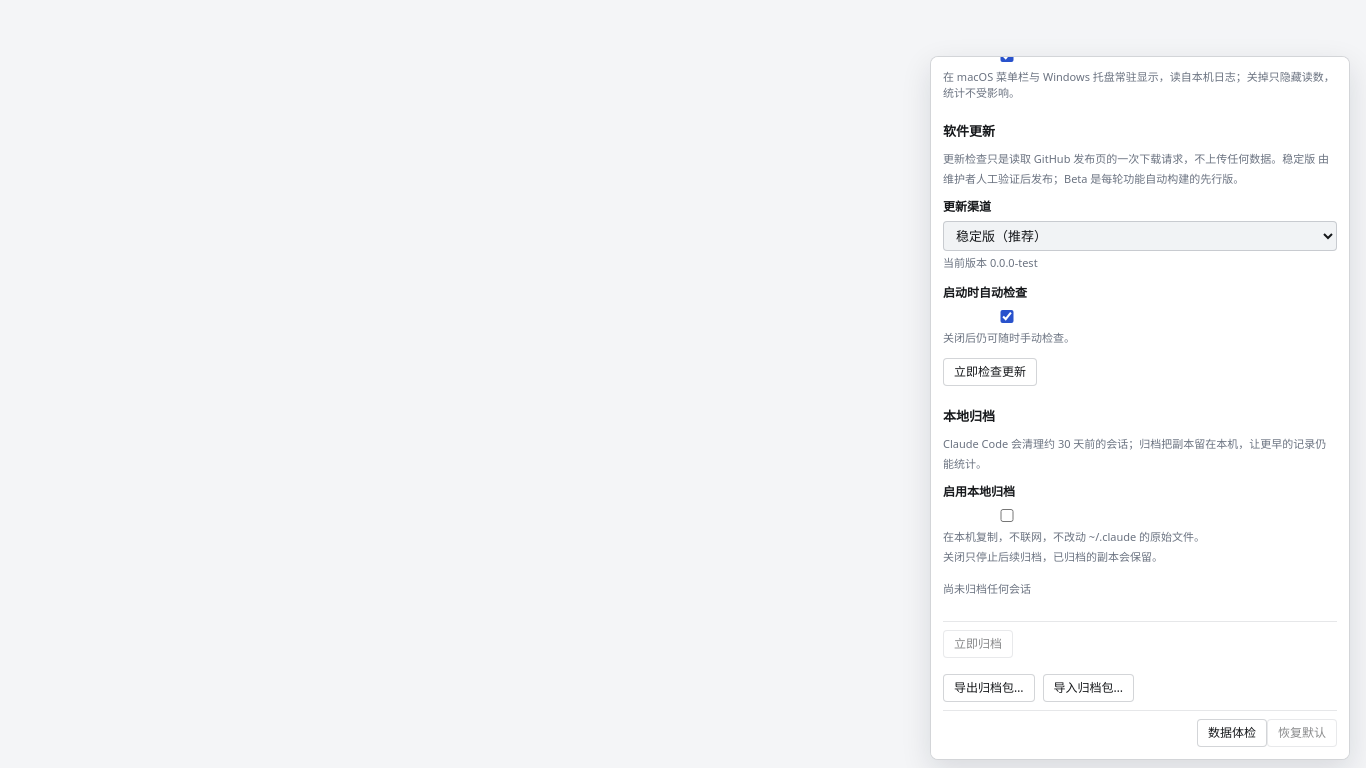
归档包（Issue #152） › 口令错：就地报错、索引未被写、临时目录仍被清掉
This screenshot has width=1366, height=768.
(page scrolled)
Click the button "导入归档包…" at (1088, 688), box [1042,674,1134,702]
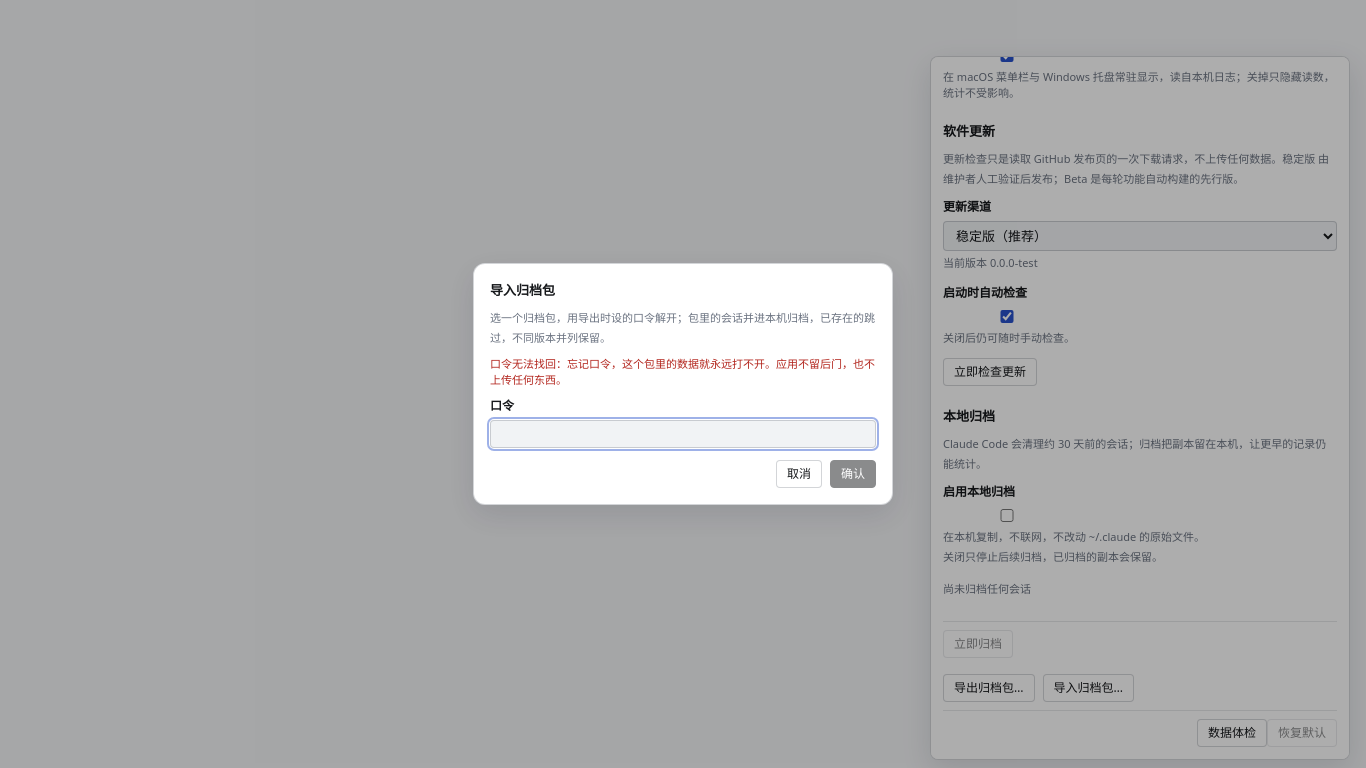
Type "wrong" into the password field labelled "口令" at (683, 434), box [490,420,876,448]
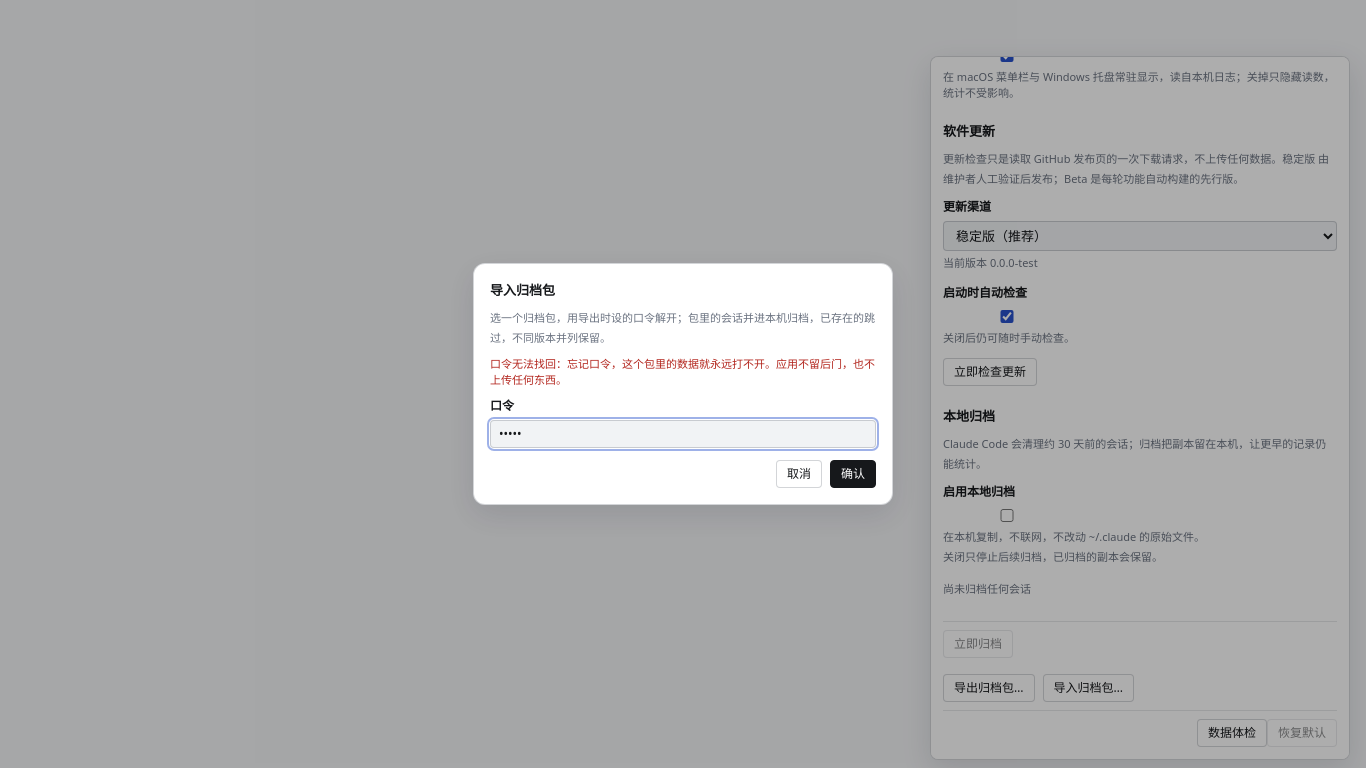
Click the button "确认" at (853, 474), box [830,460,876,488]
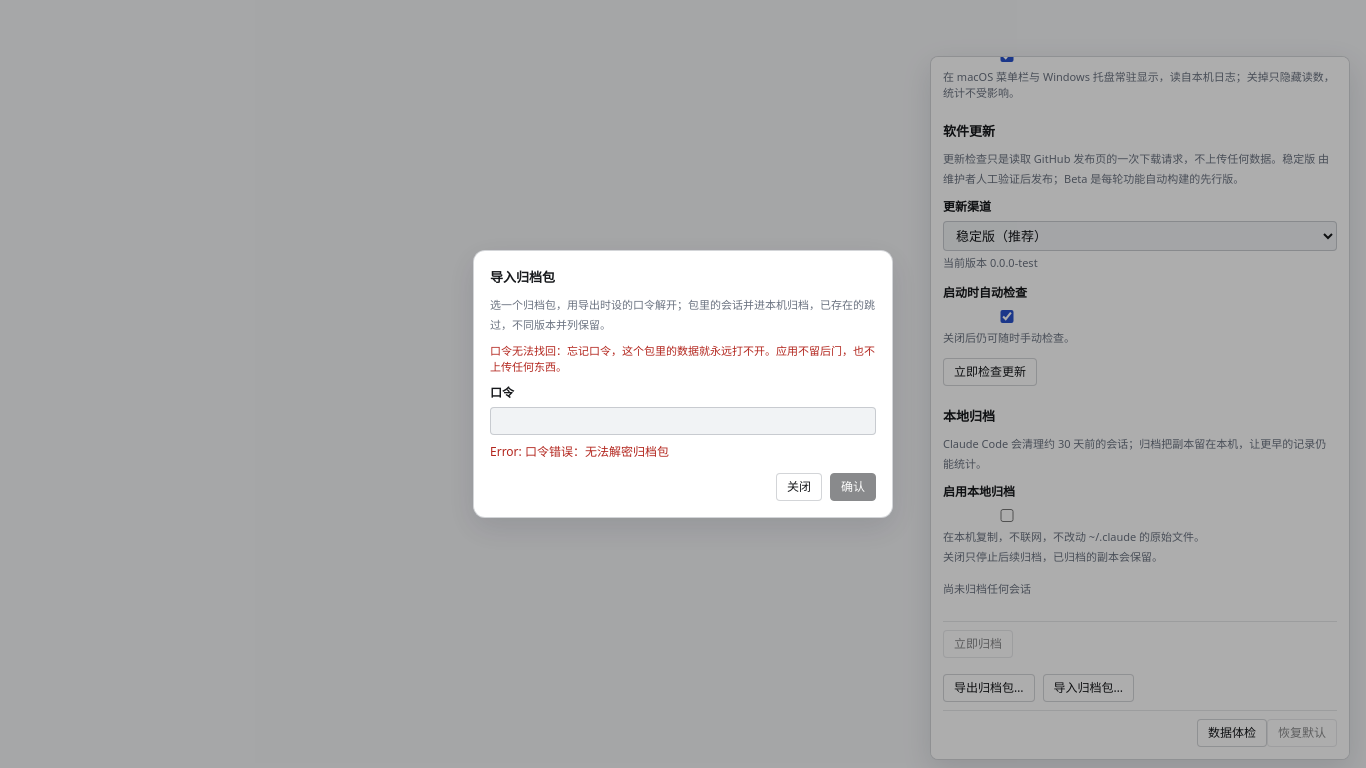
Result: the message "Error: 口令错误：无法解密归档包" is shown at [490,443,669,460]
